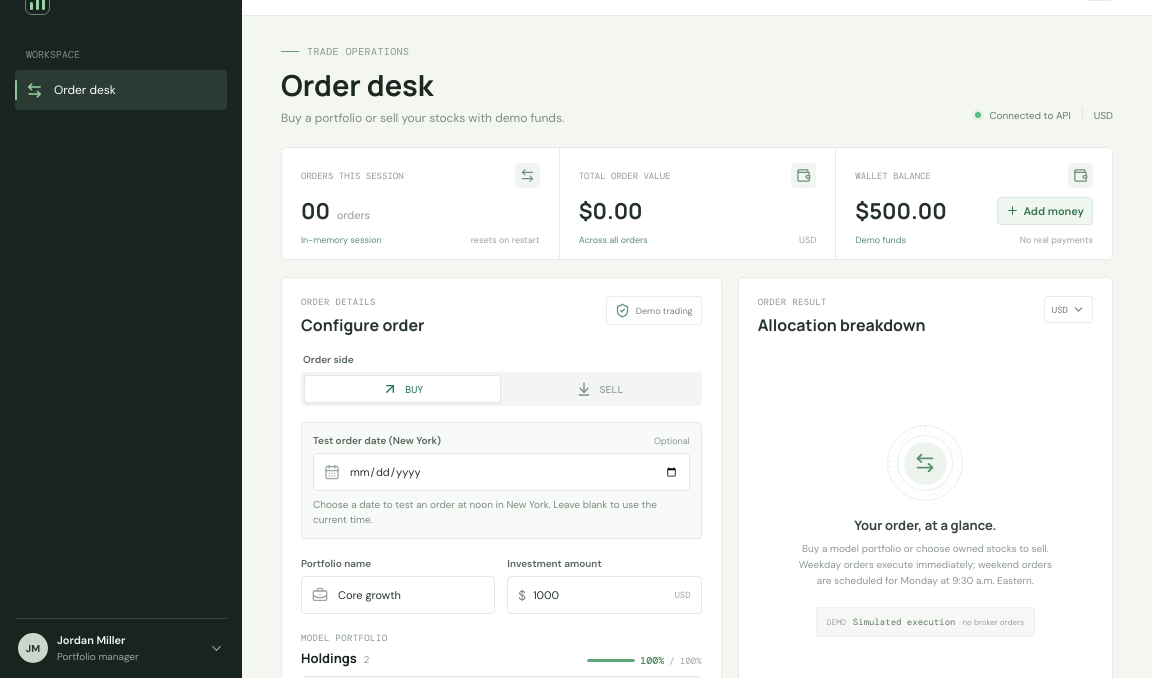
Test: order desk › shows instant weekday BUY execution from the order response
Expected: the text "Connected to API" is shown, [989,108,1071,122]
Replace the text in the number field labelled "Investment amount" with "100": [600, 595] box [531,577,669,613]
(page scrolled)
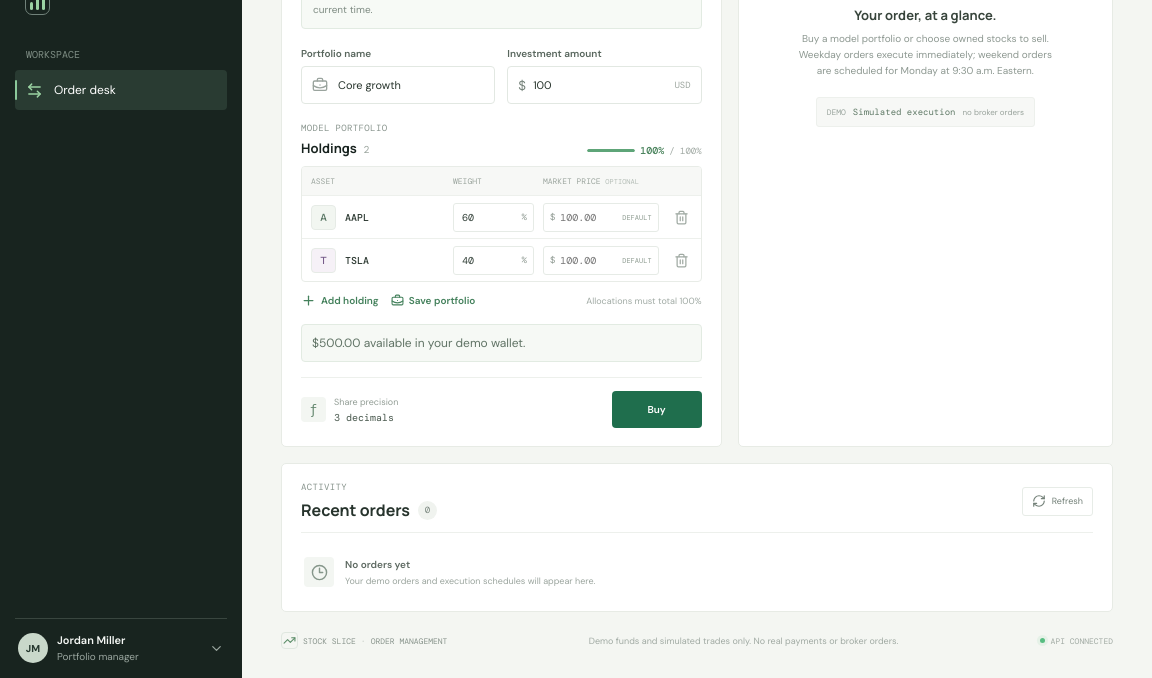
Click the button "Buy": [657, 410] box [612,391,702,428]
(page scrolled)
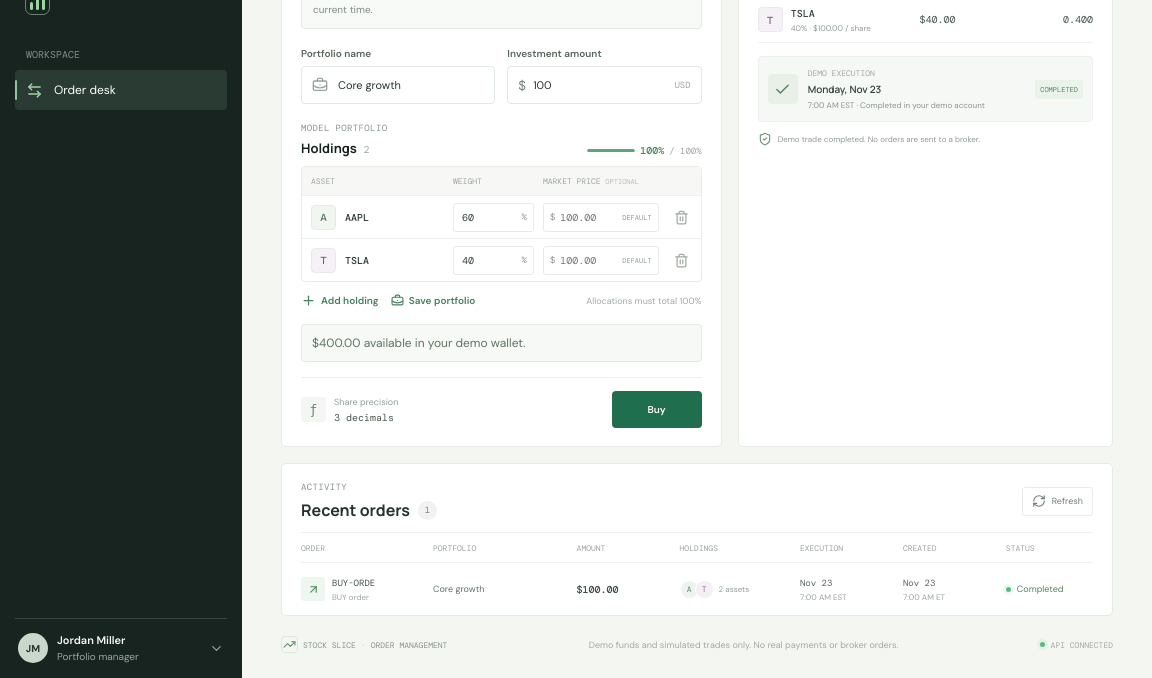
Expected: the element "DEMO EXECUTION" shows "Monday, Nov 23", [808,82,881,96]
Expected: the element "DEMO EXECUTION" shows "7:00 AM EST · Completed in your demo account", [758,56,1093,122]
Expected: the element "DEMO EXECUTION" shows "Completed", [1040,84,1078,94]
